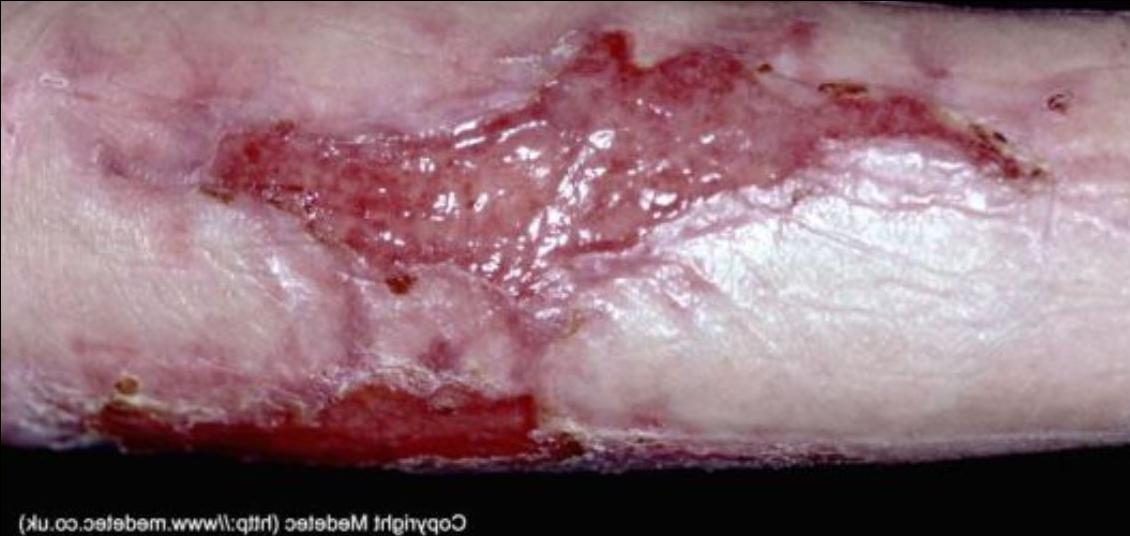NonPU: (24, 14, 1130, 471)
